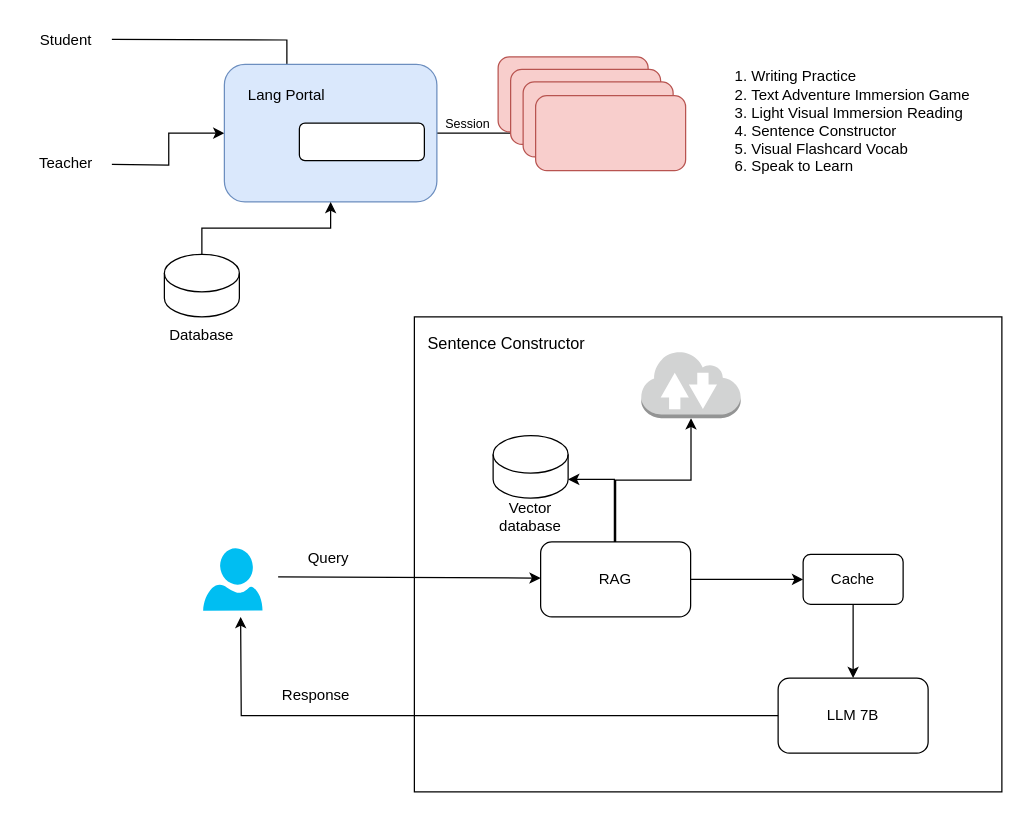
The diagram is 1024 pixels wide and 814 high, and some of its shapes have lost their labels. Each missing label, with the box of its shape:
Study Activities: (534, 94, 686, 171)
Word Group: (298, 122, 424, 161)
